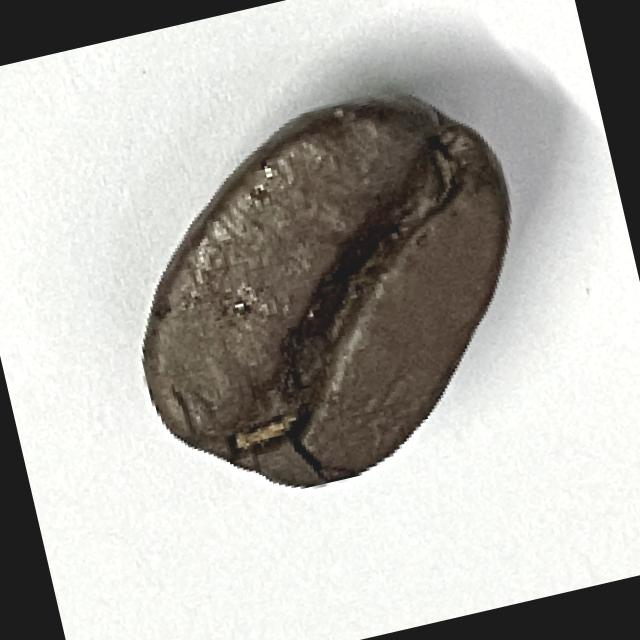bean: (86, 69, 576, 528)
